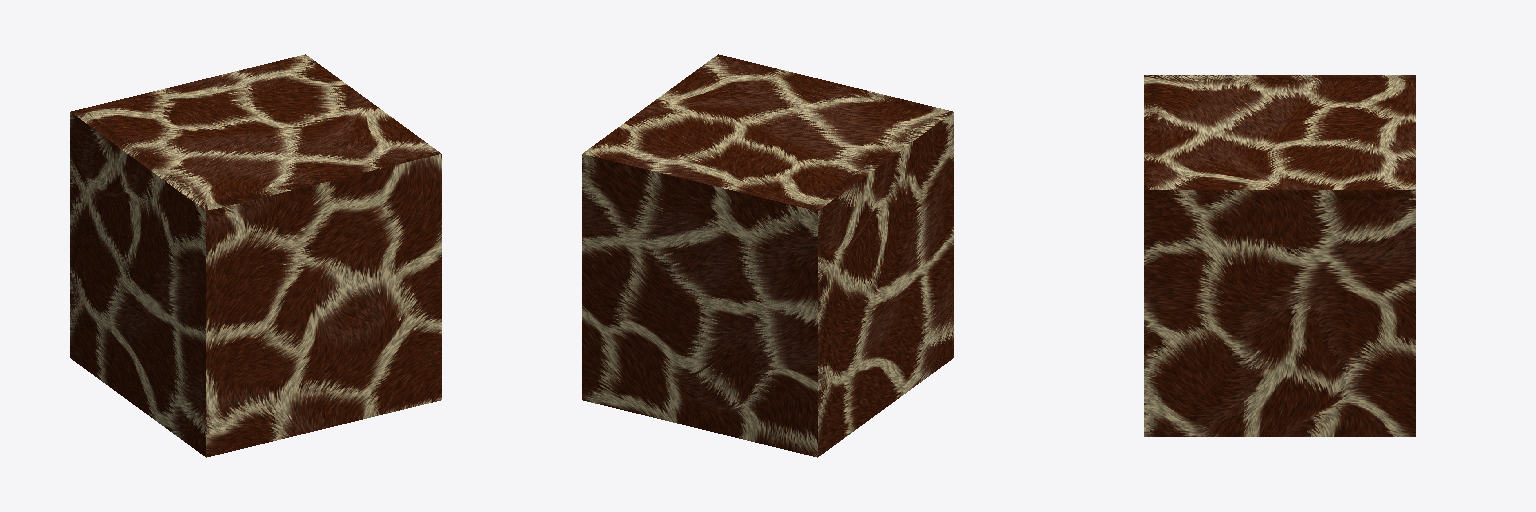
The picture shows the model from 3 angles: view 1: azimuth 30°, elevation 25°; view 2: azimuth 150°, elevation 25°; view 3: azimuth 270°, elevation 25°; orthographic projection.
Visible parts, largest first — view 1: Cube_Cube.001; view 2: Cube_Cube.001; view 3: Cube_Cube.001.
Boxes of the visible parts, box(x1,y1,x2,y2) form: Cube_Cube.001: box(70, 54, 441, 457); Cube_Cube.001: box(582, 54, 953, 457); Cube_Cube.001: box(1144, 75, 1415, 436).
Size of the model in its own units: 2 by 2 by 2.
1 materials, 1 textured.